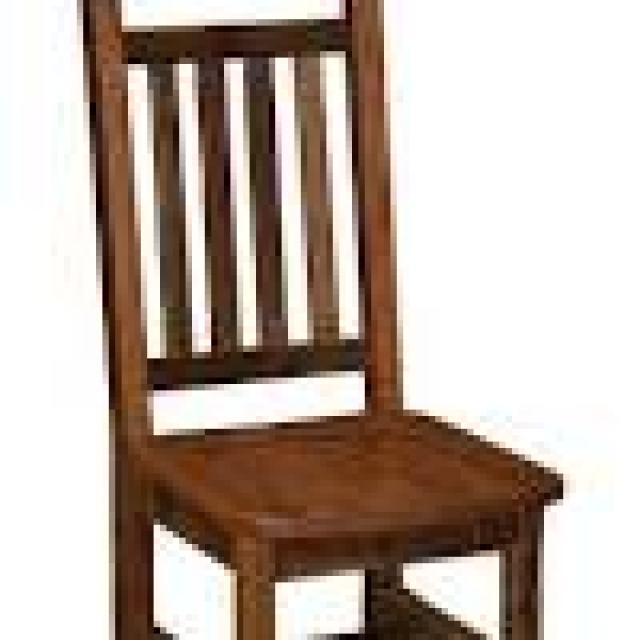chair: (13, 0, 590, 640)
